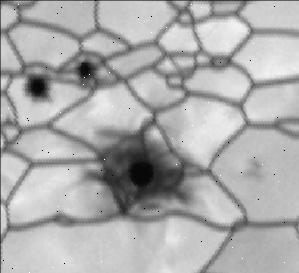good_void: (82, 122, 193, 221), (21, 67, 54, 106), (236, 154, 268, 183), (73, 56, 98, 90)
